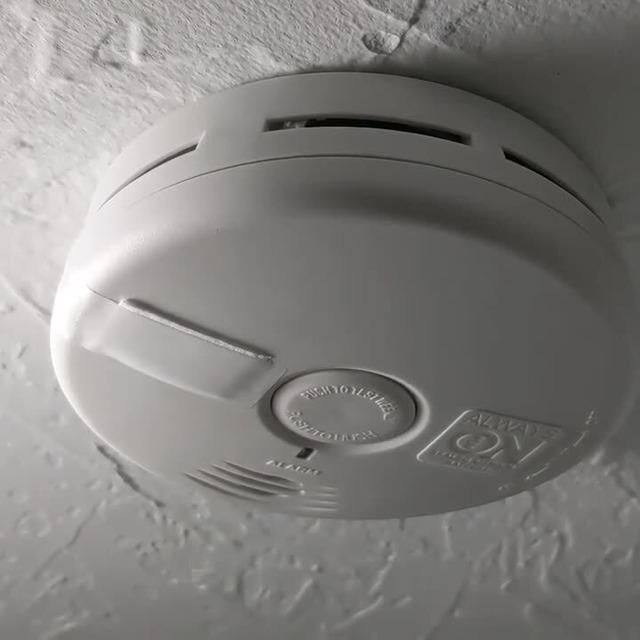Smoke-Detector: (36, 76, 638, 532)
